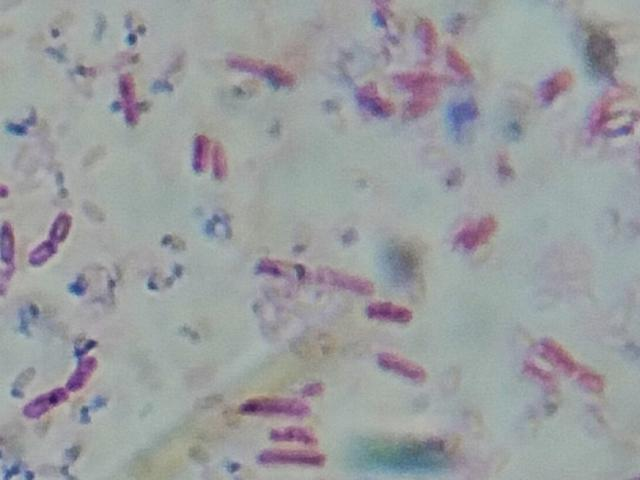E. coli: (252, 252, 381, 293), (519, 341, 609, 390), (229, 52, 295, 89), (236, 390, 310, 423), (453, 209, 511, 251), (251, 440, 328, 469), (373, 342, 424, 385), (65, 347, 107, 395), (116, 75, 151, 128), (23, 382, 70, 415), (537, 65, 574, 105), (0, 217, 19, 289), (356, 83, 392, 120), (361, 296, 409, 322), (445, 43, 478, 80), (206, 136, 232, 182), (269, 423, 317, 446), (391, 66, 438, 87), (23, 237, 57, 266), (48, 210, 79, 241), (188, 130, 212, 169)
